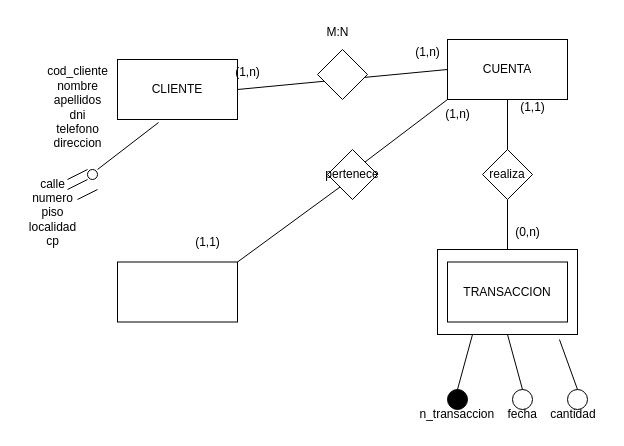
Image size: 624x446. Some labels were removed from this diagram. Each missing label, with the centre of its shape:
"SUCURSAL" belongs at (x=177, y=291).
"Tiene" belongs at (x=342, y=74).
